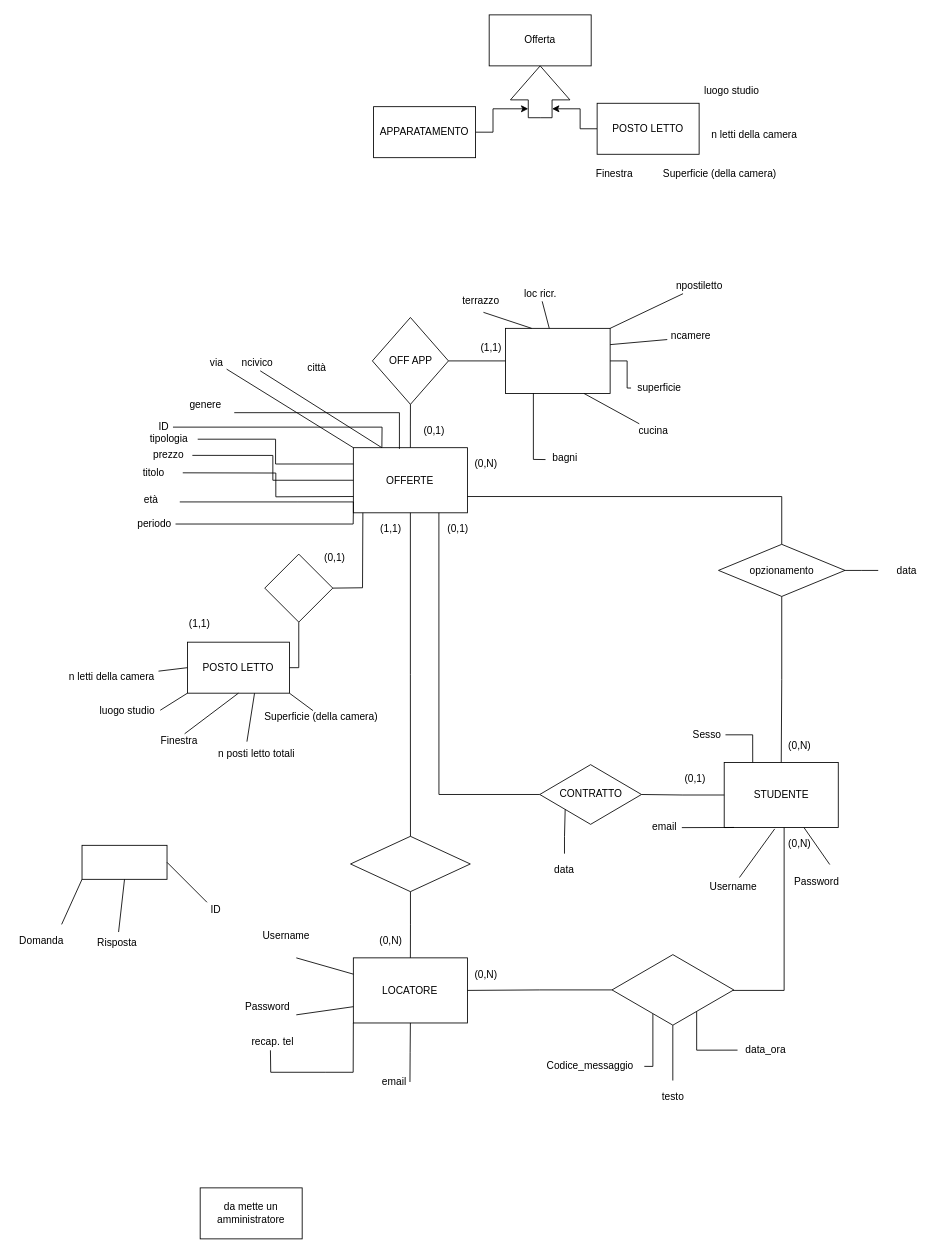
The diagram is 949 pixels wide and 1254 high, and some of its shapes have lost their labels. Here are the shapes that lost their labels. From the top down, the centre of each, then its label:
At [557,360]: "APPARTAMENTO".
At [298,587]: "OFF POSTO LETTO".
At [124,861]: "FAQ".
At [410,863]: "corrispondenza".
At [672,989]: "MESSAGGIO".
